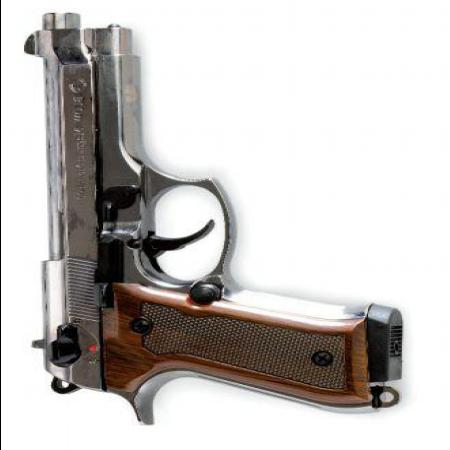Pistol: (19, 10, 401, 422)
